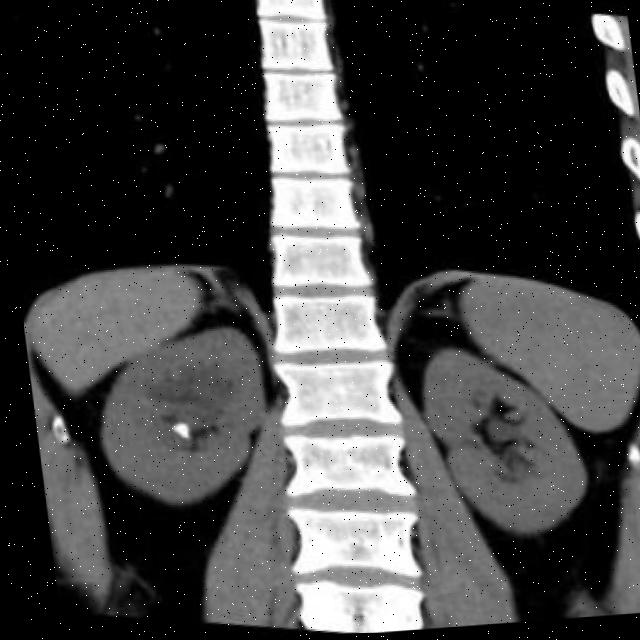Tas_Var: (159, 415, 193, 444)
